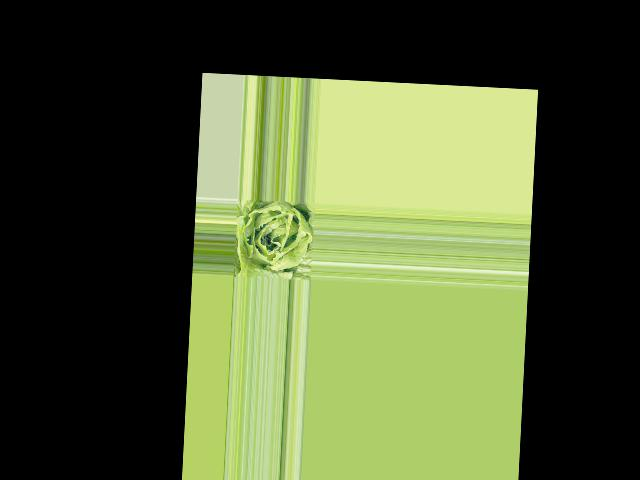lettuce: (234, 199, 314, 281)
